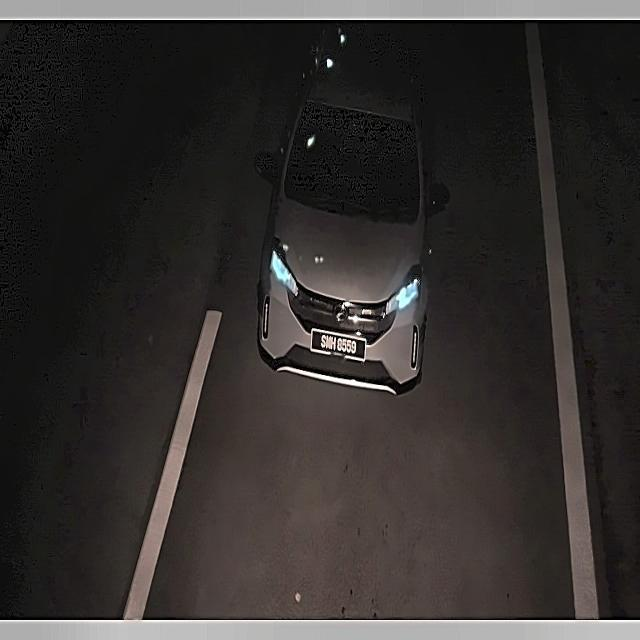car: (311, 328, 366, 363)
